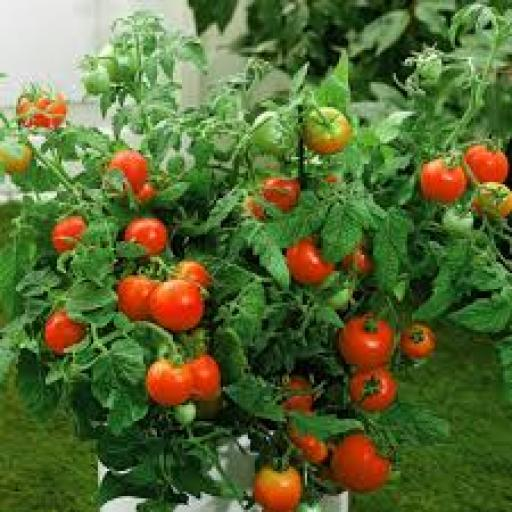tomato: (333, 435, 391, 491), (337, 315, 393, 368), (151, 280, 204, 332), (303, 107, 352, 154), (146, 360, 193, 407), (253, 467, 302, 511), (287, 239, 334, 284), (419, 160, 466, 204), (349, 369, 395, 411), (251, 112, 293, 157), (44, 310, 86, 354), (16, 92, 68, 127), (117, 276, 157, 320), (465, 146, 509, 182), (123, 219, 168, 254), (110, 151, 147, 193), (289, 426, 329, 464), (98, 46, 136, 84), (189, 355, 220, 400), (474, 183, 511, 218), (262, 178, 300, 211), (401, 324, 436, 359), (53, 217, 86, 252), (283, 376, 314, 411), (0, 142, 31, 175), (176, 260, 211, 288), (342, 246, 373, 275), (82, 66, 111, 95), (442, 210, 473, 236), (417, 53, 443, 84), (46, 94, 68, 127), (114, 51, 136, 81), (196, 394, 223, 418), (98, 46, 116, 81), (328, 289, 352, 311), (173, 403, 197, 425), (244, 196, 266, 220), (137, 183, 157, 204), (296, 503, 323, 511), (326, 173, 341, 184)
